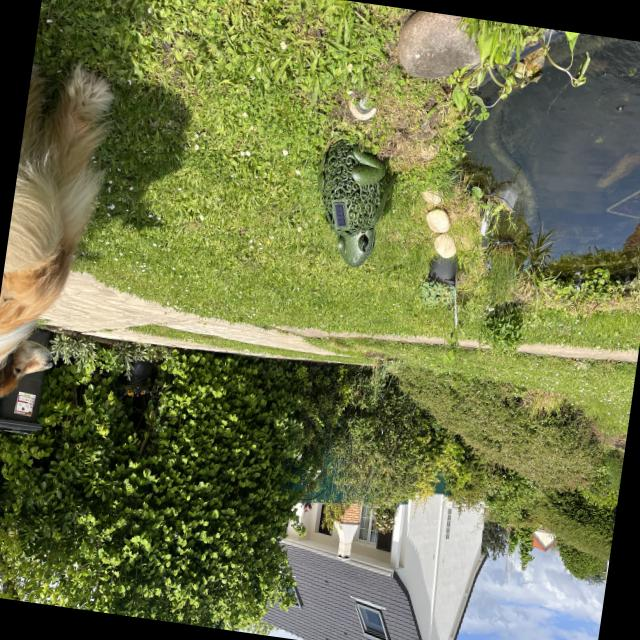Dog: (0, 24, 125, 439)
